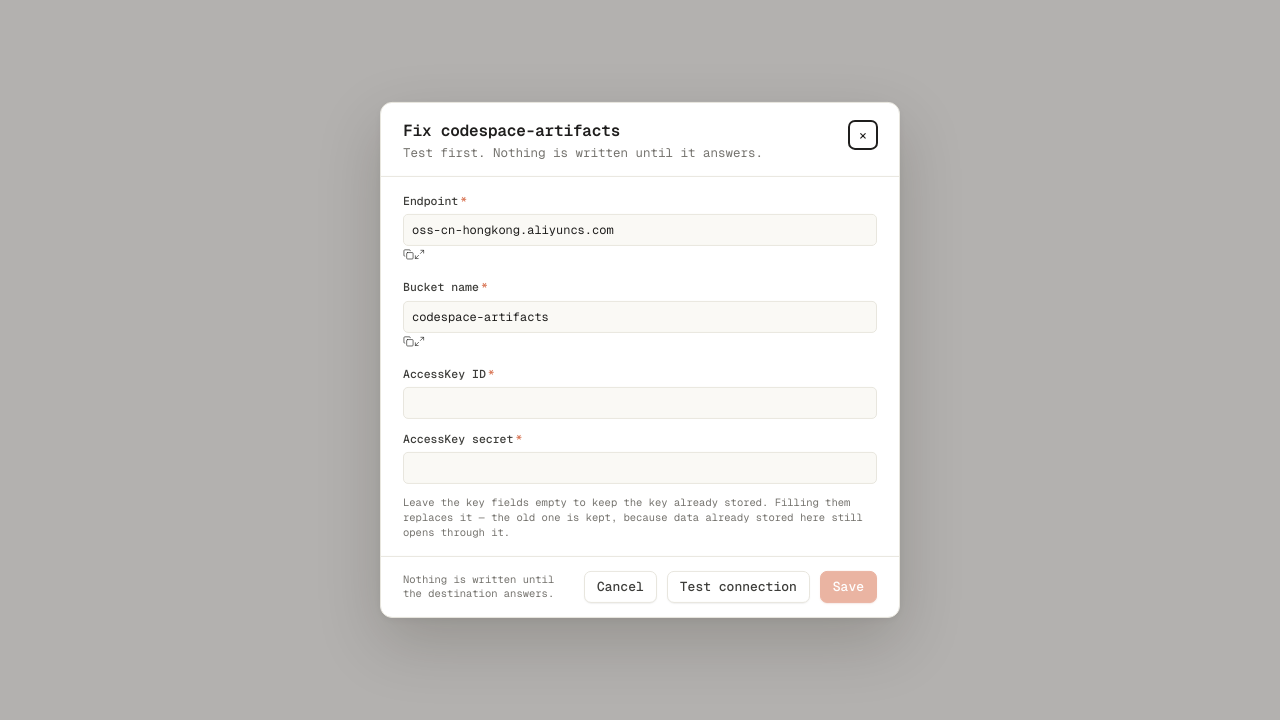
it: FixConnectionDialog › retracts Save when the form changes after a passing test
Expected: the password field named "AccessKey secret" is shown, x1=403 y1=452 x2=877 y2=484
Type "LTAI5tNew" into the password field named "AccessKey ID".
click(640, 403); type("LTAI5tNew")  # box x1=403 y1=387 x2=877 y2=419
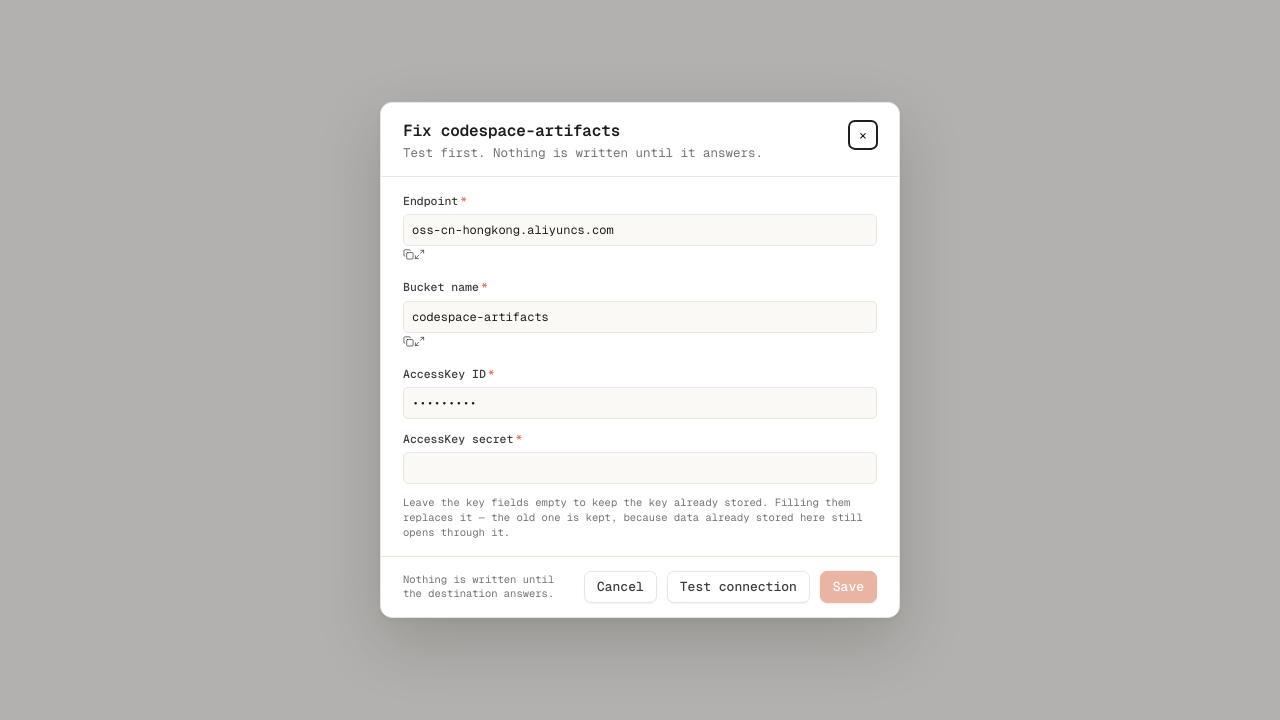
Type "new-secret" into the password field named "AccessKey secret".
click(640, 468); type("new-secret")  # box x1=403 y1=452 x2=877 y2=484
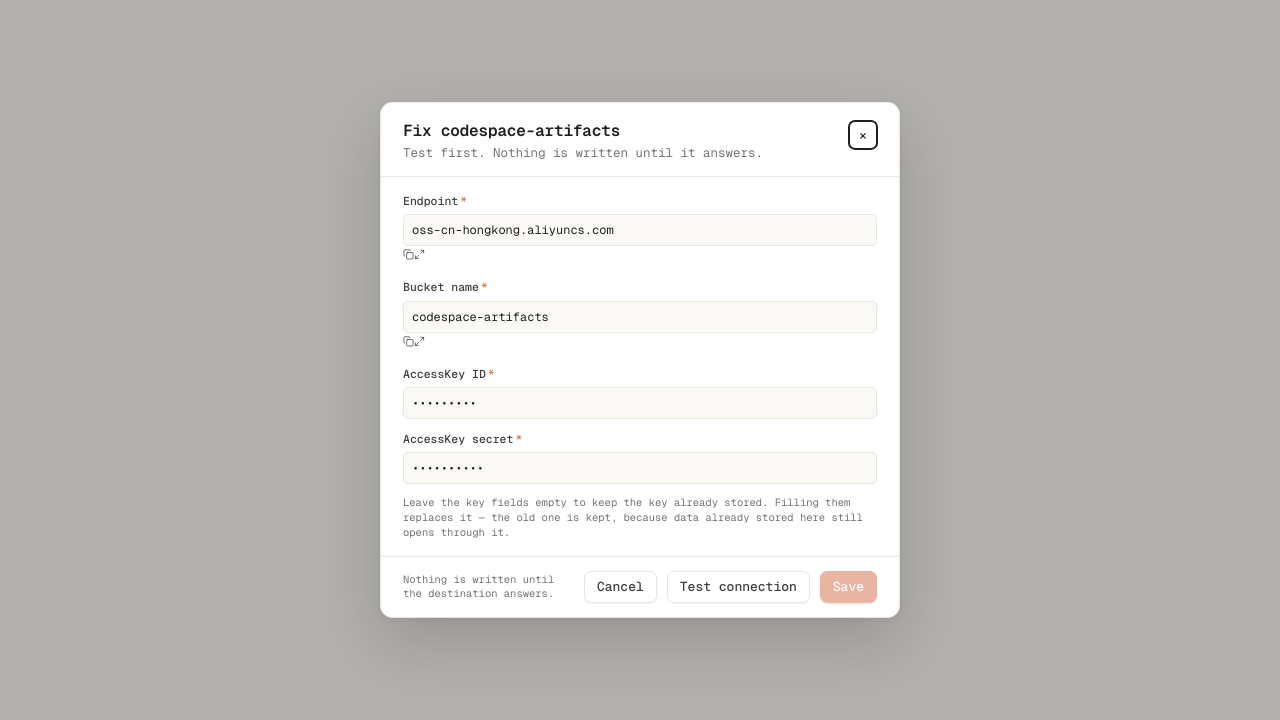
Click the button "Test connection".
click(738, 587)  # box x1=667 y1=571 x2=810 y2=603
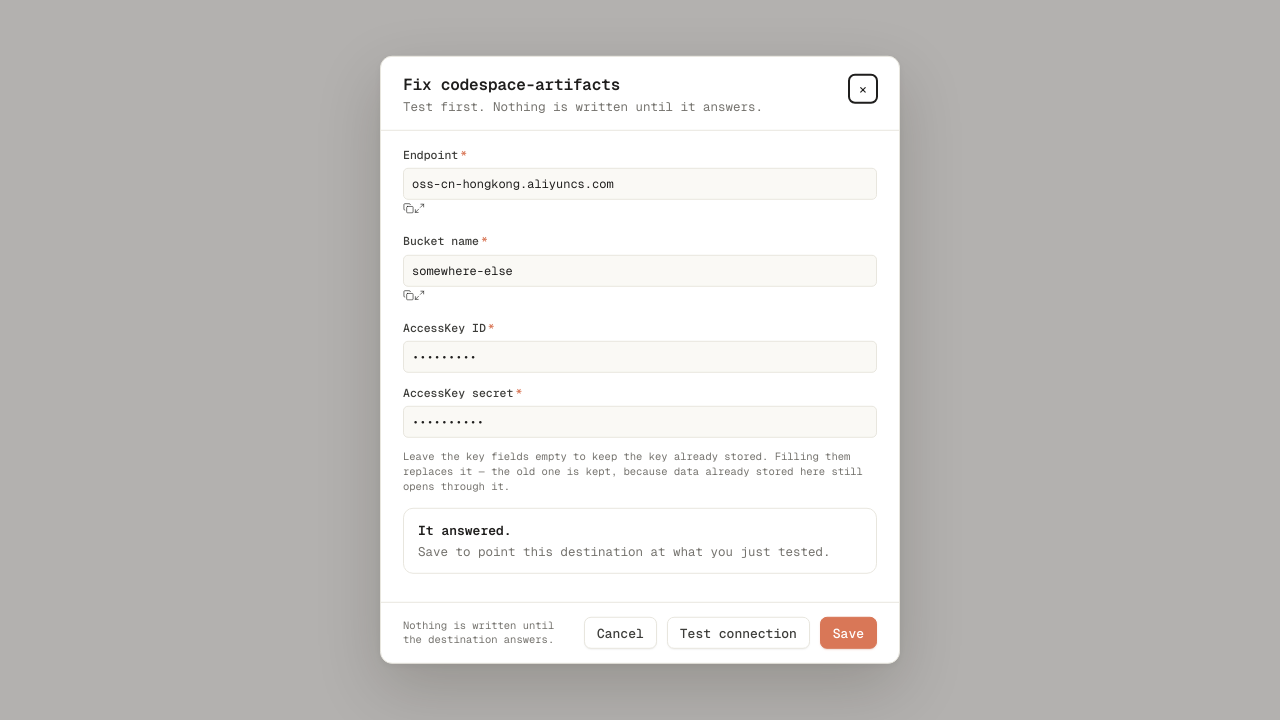
Expected: the text "It answered." is shown, x1=418 y1=522 x2=512 y2=539
Expected: the button "Save" is enabled, x1=820 y1=617 x2=877 y2=649
Clear the field labelled "somewhere-else" at (640, 270), box x1=403 y1=254 x2=877 y2=286
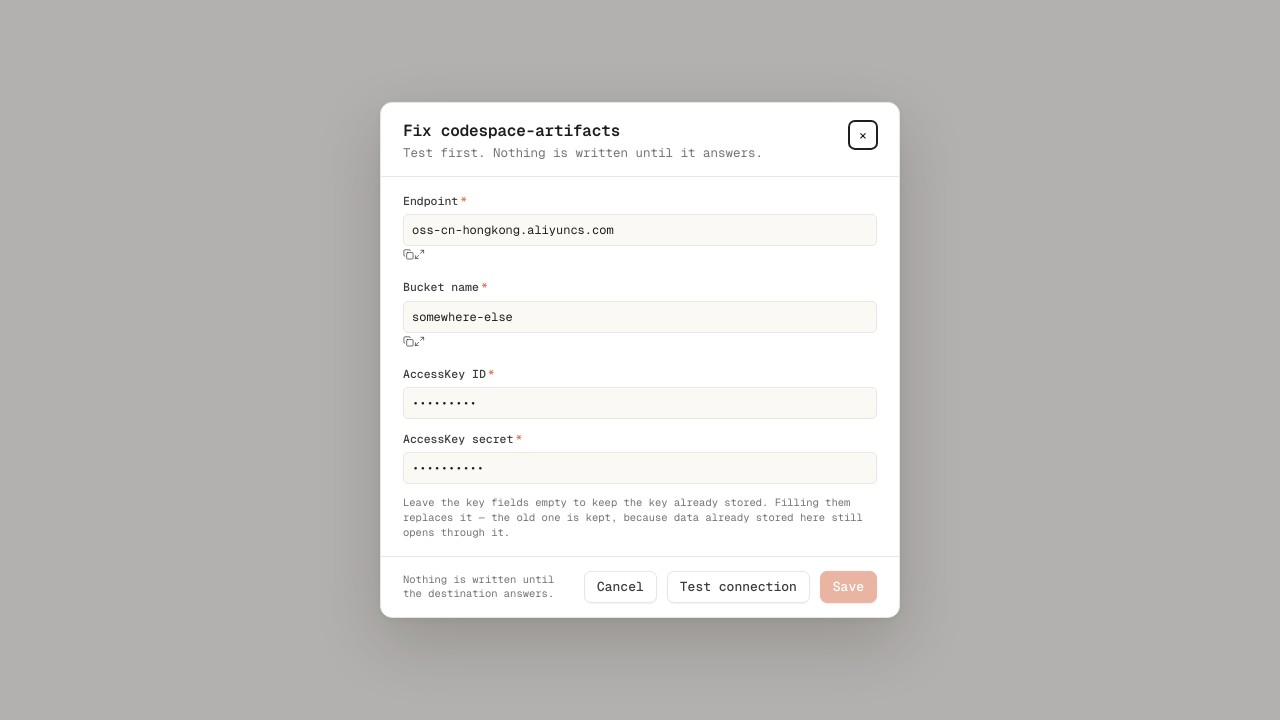
Expected: the button "Save" is disabled, x1=820 y1=571 x2=877 y2=603
Expected: the text "It answered." is gone
